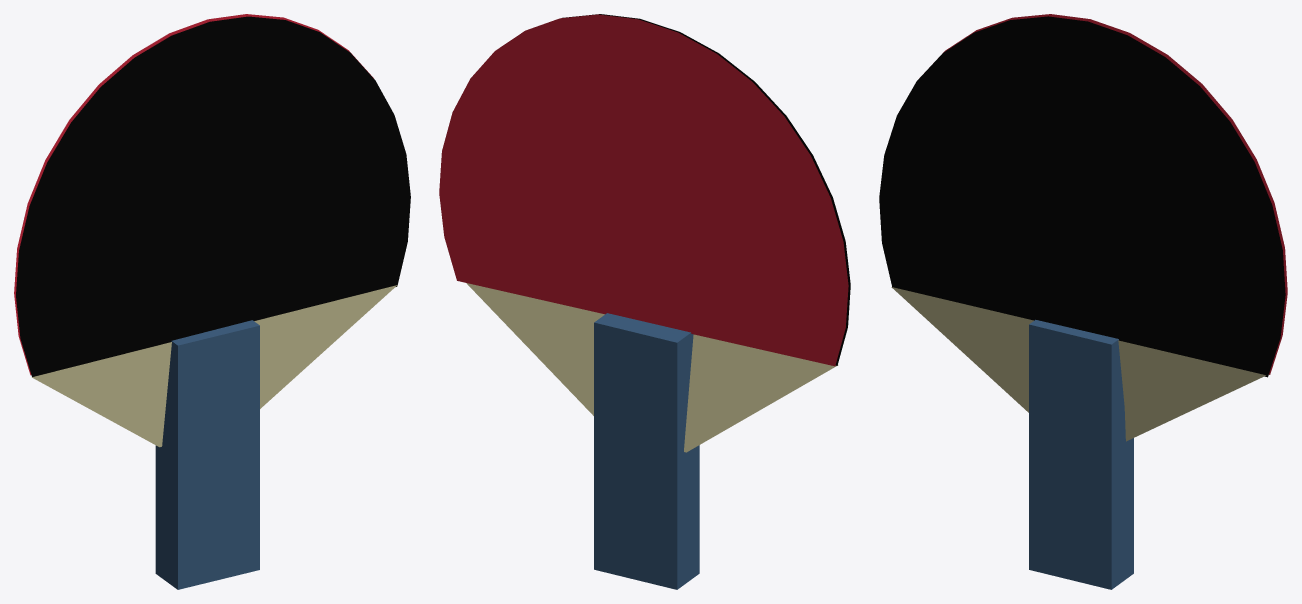
The model's file is Raquette.glb.
3 views of the same model, side by side, from view 1: azimuth 30°, elevation 25°; view 2: azimuth 150°, elevation 25°; view 3: azimuth 330°, elevation 25° (orthographic).
Parts seen in each view (by area): view 1: Cercle, Cube, Plan, Cercle.001; view 2: Cercle.001, Cube, Plan, Cercle; view 3: Cercle, Cube, Plan, Cercle.001.
Boxes of the visible parts, x1,y1,x2,y2 form: Cercle: (16,16,410,376); Cube: (155,320,259,589); Plan: (32,285,397,447); Cercle.001: (14,14,373,375); Cercle.001: (439,14,848,366); Cube: (594,313,699,589); Plan: (466,283,838,452); Cercle: (562,14,850,365); Cercle: (879,16,1285,377); Cube: (1029,319,1133,589); Plan: (891,287,1265,441); Cercle.001: (924,14,1287,374).
Size of the model in its own units: 2.17 by 2.84 by 0.2093.
